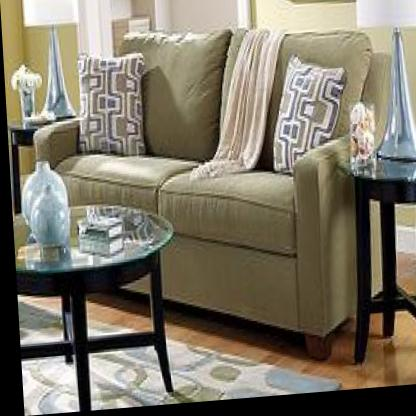Sofa: (29, 13, 415, 387)
Table: (10, 201, 179, 415)
